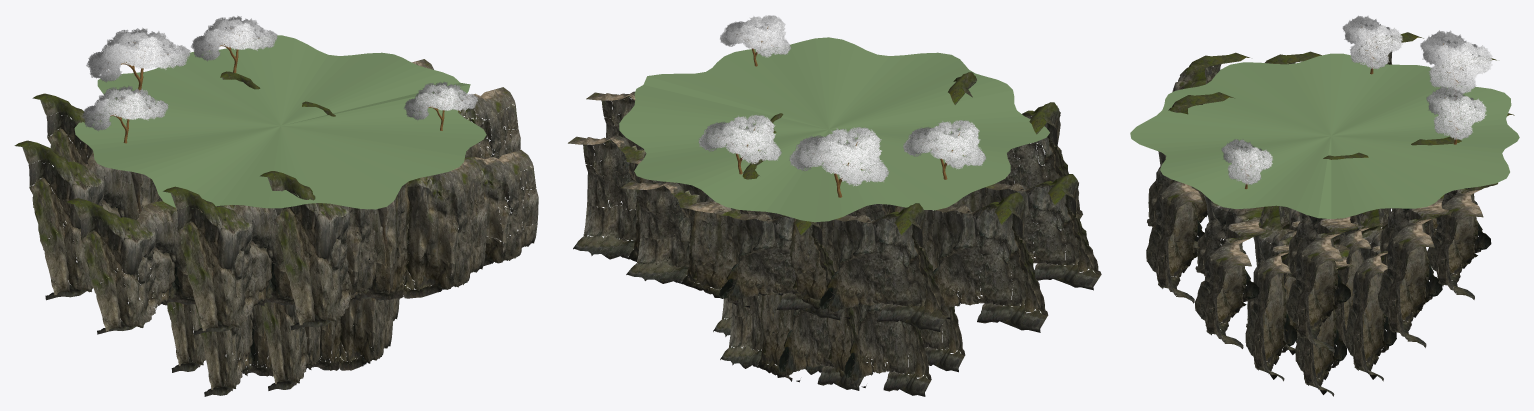
The model's file is geological-island.glb.
3 renders of one model, left to right at view 1: azimuth 30°, elevation 25°; view 2: azimuth 150°, elevation 25°; view 3: azimuth 270°, elevation 25°, orthographic. The views are drawn at different scales.
Parts seen in each view (by area): view 1: Eroded island shell, Island crown, Island tree 0 F1_Tree1_leaves, Island tree 0 F1_Tree1_trunk; view 2: Eroded island shell, Island crown, Island tree 0 F1_Tree1_leaves; view 3: Eroded island shell, Island crown, Island tree 0 F1_Tree1_leaves.
Boxes of the visible parts, x1,y1,x2,y2 form: Eroded island shell: (14,59,538,396); Island crown: (74,35,486,209); Island tree 0 F1_Tree1_leaves: (81,16,478,131); Island tree 0 F1_Tree1_trunk: (108,28,462,143); Eroded island shell: (568,72,1101,396); Island crown: (619,37,1049,222); Island tree 0 F1_Tree1_leaves: (698,15,986,186); Eroded island shell: (1146,32,1514,396); Island crown: (1130,53,1519,218); Island tree 0 F1_Tree1_leaves: (1221,15,1492,184).
Bounding box in the file's own units: 23.42 × 14.62 × 18.62.
4 materials, 3 textured.
